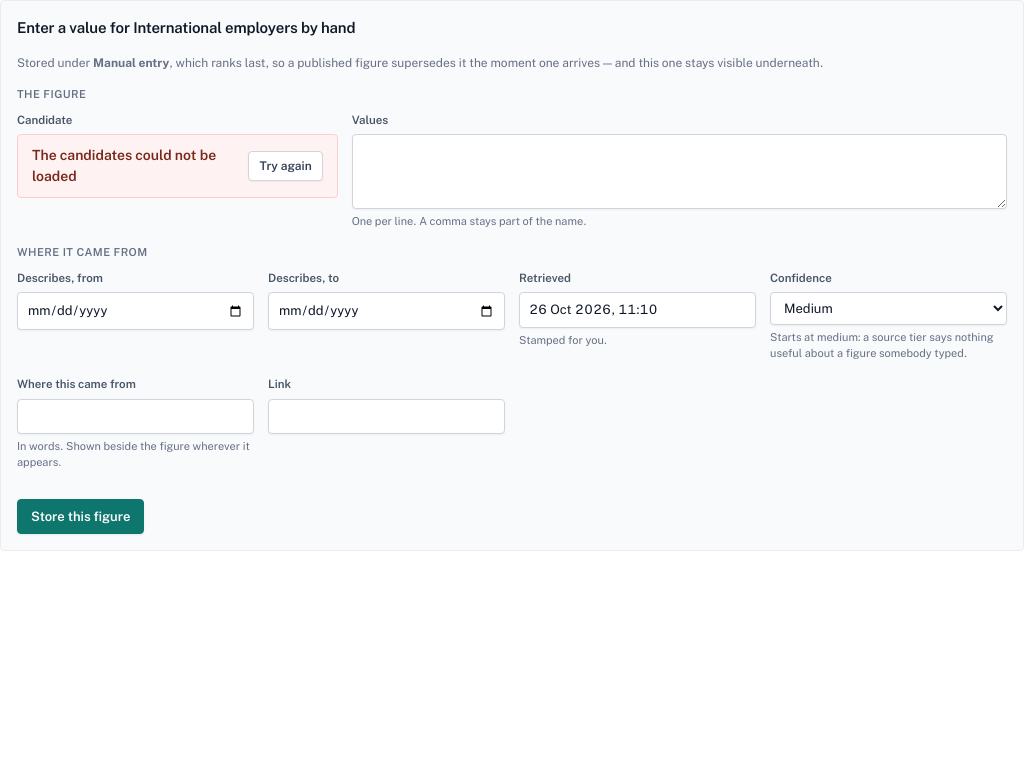
Test case: the hand-entry form when the candidates are not there › says the candidates could not be loaded, and reads them again when asked
Expected: the text "The candidates could not be loaded" is shown, [32, 145, 242, 187]
Click the button "Try again". click: (286, 166)
box: [248, 151, 323, 181]
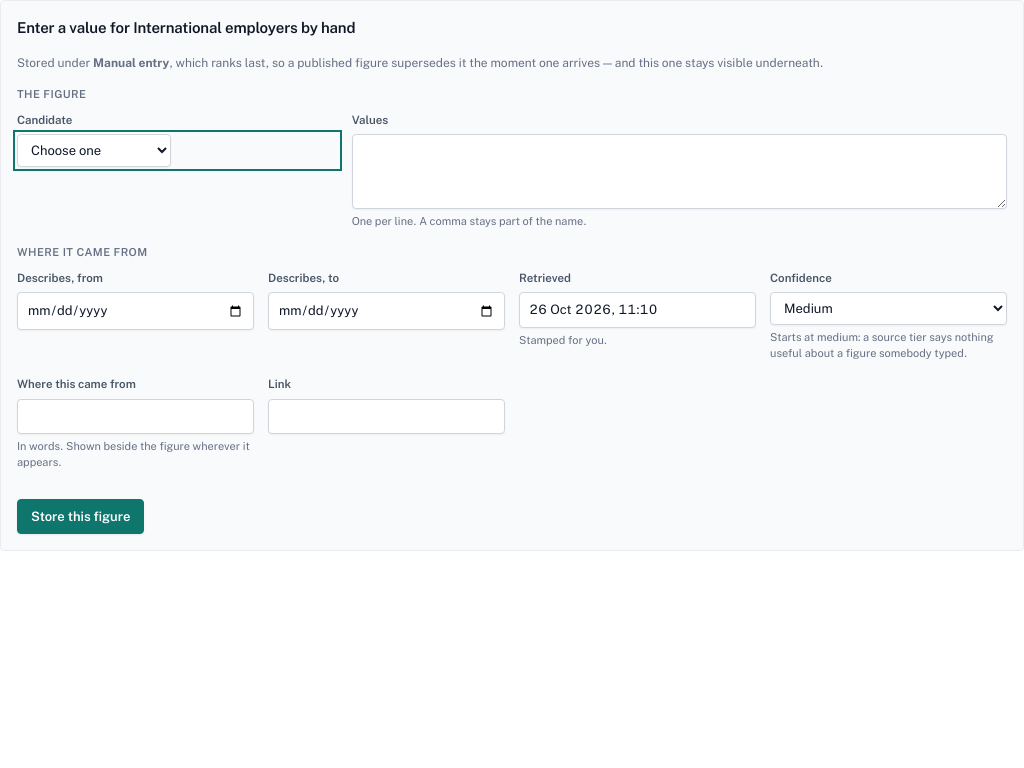
Expected: the text "could not be loaded" is gone
